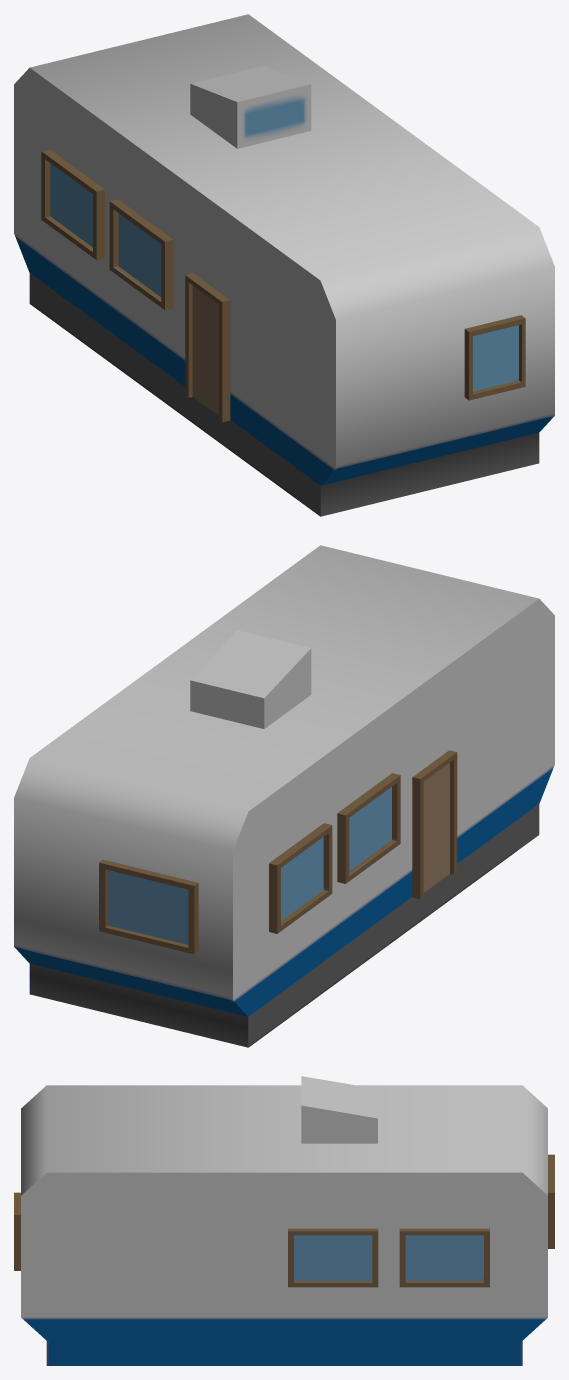
File: Trailer.glb
3 views of the same model, one above another, from view 1: azimuth 30°, elevation 25°; view 2: azimuth 150°, elevation 25°; view 3: azimuth 270°, elevation 25° (orthographic). The views are drawn at different scales.
Visible parts, largest first — view 1: Trailer; view 2: Trailer; view 3: Trailer.
Boxes of the visible parts, bbox=[...] form: Trailer: bbox=[14, 14, 554, 516]; Trailer: bbox=[14, 545, 554, 1047]; Trailer: bbox=[14, 1076, 554, 1365].
Size of what is drawn, in the model's own units: 3.78 by 4.37 by 9.25.
1 material, 1 textured.
